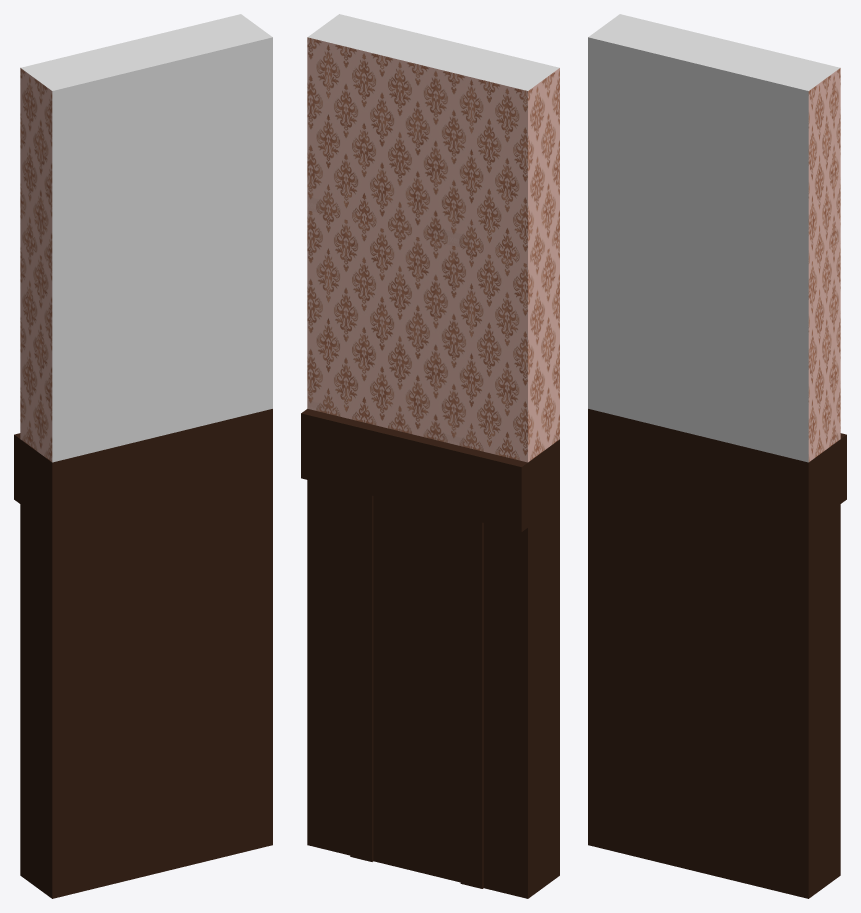
Rendered from Kitchen Wall 1 X.fbx.
The picture shows the model from 3 angles, left to right: view 1: azimuth 30°, elevation 25°; view 2: azimuth 150°, elevation 25°; view 3: azimuth 330°, elevation 25°; orthographic projection.
Visible parts, largest first — view 1: Cube.029; view 2: Cube.029; view 3: Cube.029.
Part boxes in pixels (x1,y1,x2,y2): Cube.029: [14, 14, 272, 898]; Cube.029: [301, 14, 559, 898]; Cube.029: [588, 14, 846, 898].
Size of the model in its own units: 200 by 700 by 60.
